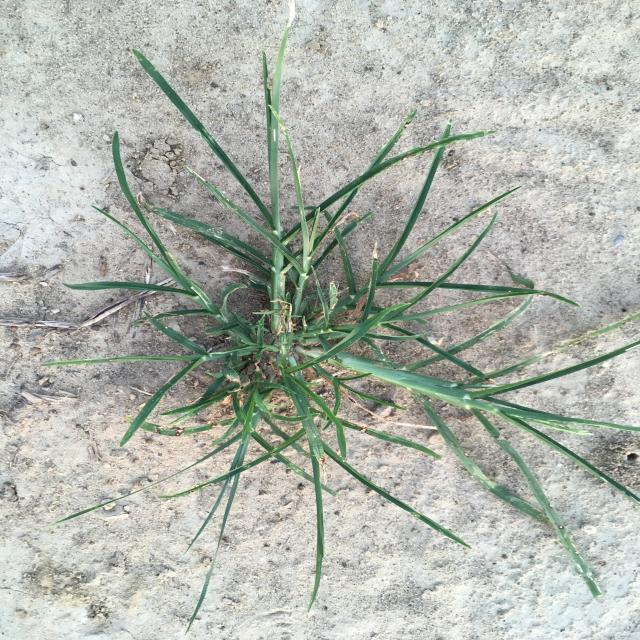Goosegrass: (41, 24, 639, 632)
